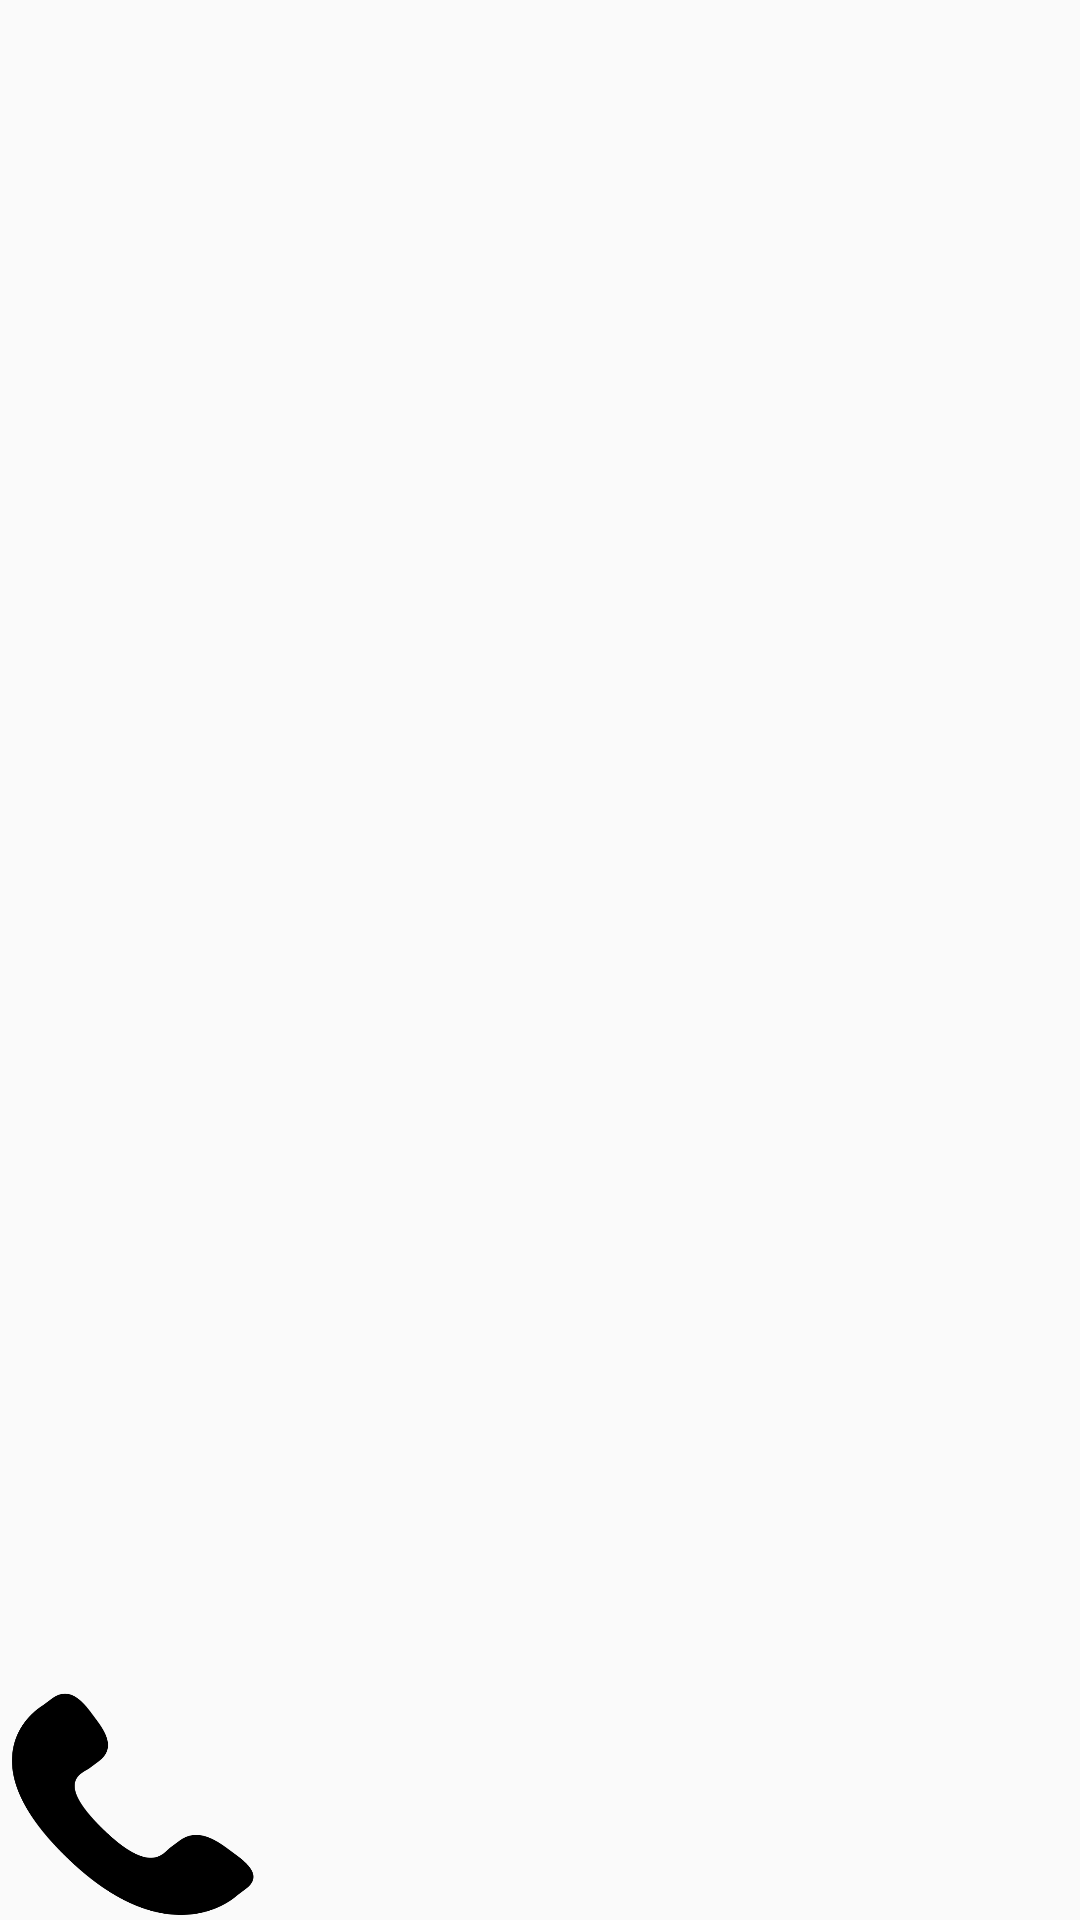

Named icons in this screenshot (1080 × 1920) and their centers, (x=x, y=y):
phone: (x=133, y=1804)
